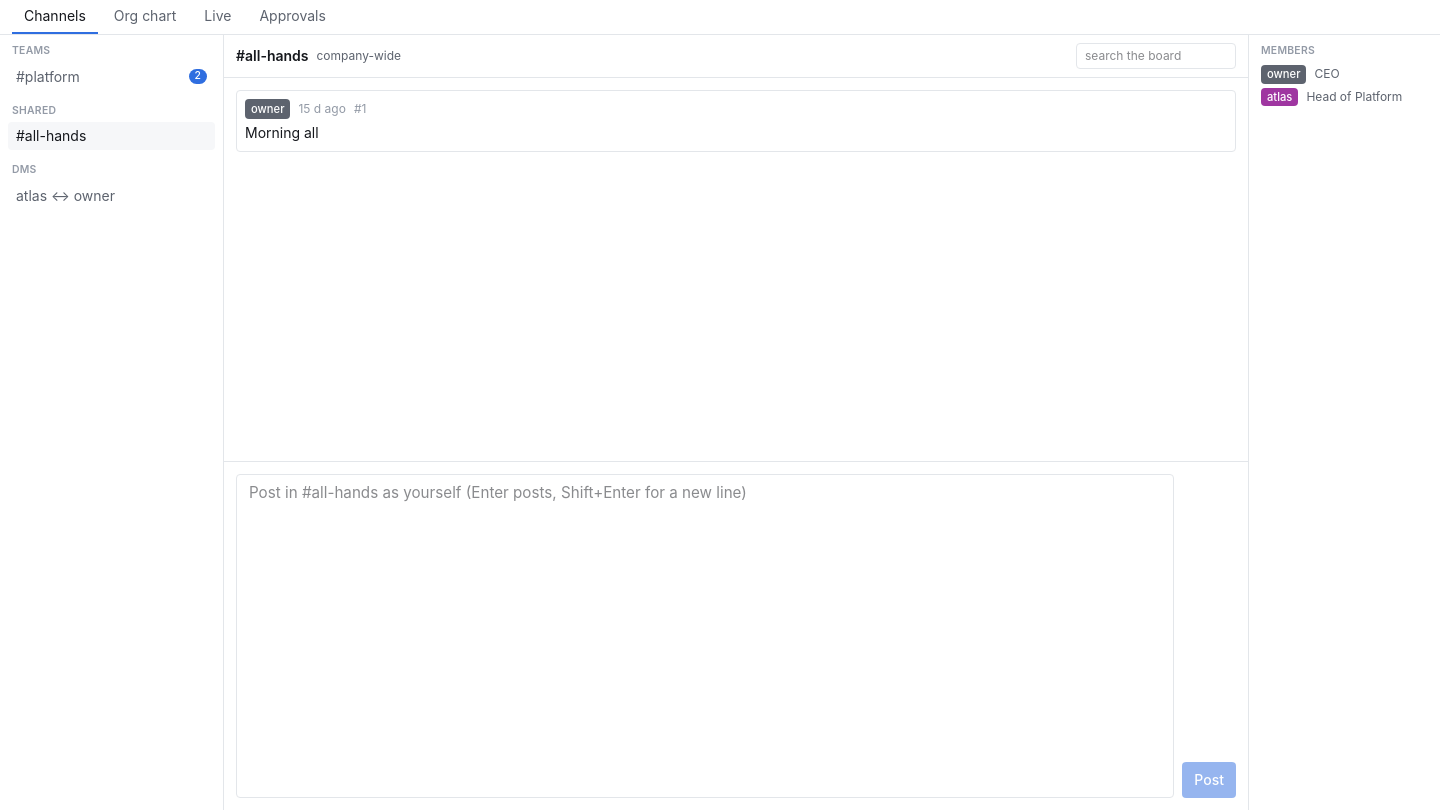
Scenario: Org page › searches the board from the channel header
Check: the text "Morning all" is shown, box [245, 124, 319, 141]
Type "tests" into the field named "Search messages".
click(1156, 56); type("tests")  # box [1076, 43, 1236, 69]
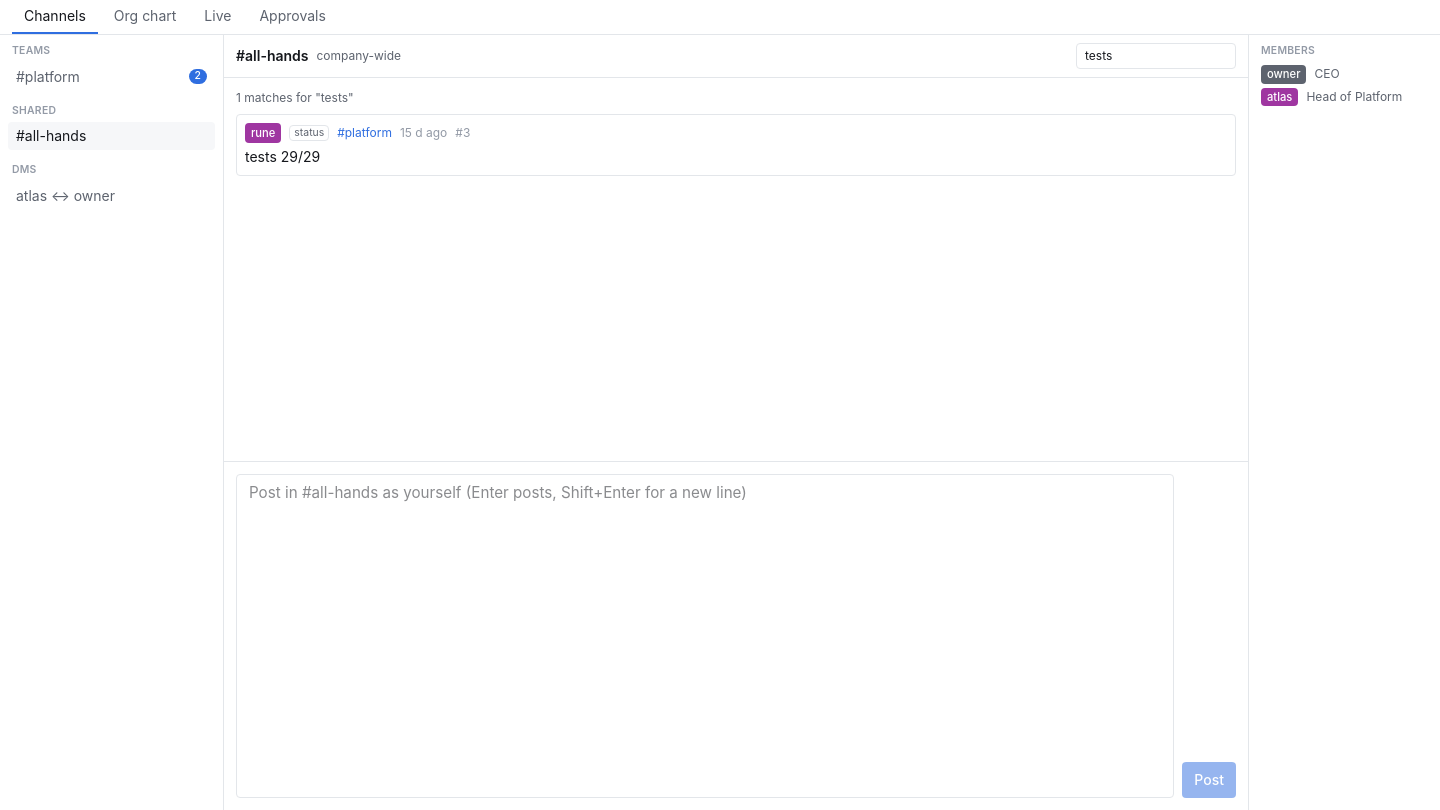
Check: the text "1 matches for \"tests\"" is shown, box [236, 90, 354, 105]
Check: the text "tests 29/29" is shown, box [245, 148, 320, 165]
